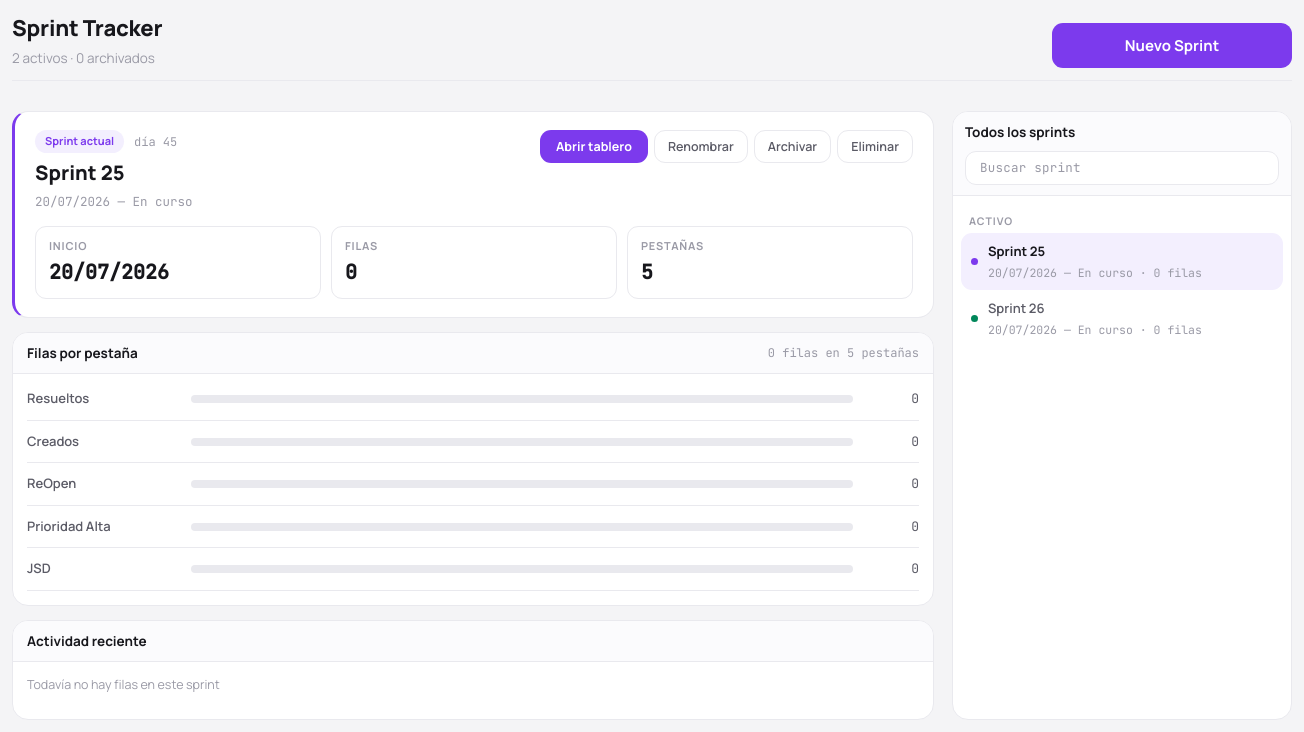
Test: SprintList redesigned layout › search filters the side list and shows noMatches when nothing matches
In the field with placeholder "Buscar sprint": {"x": 1122, "y": 168} x1=965 y1=150 x2=1279 y2=184, type "26"
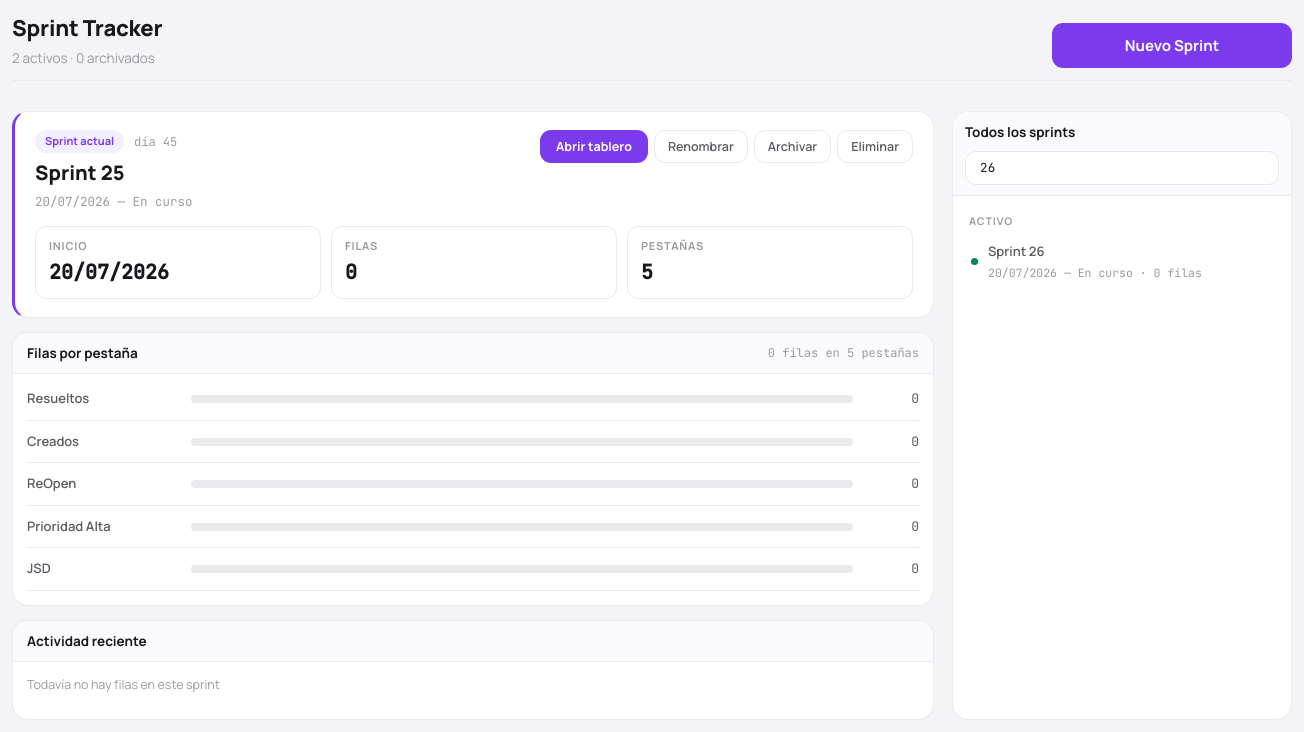
Expected: the text "Sprint 25" is shown once, x1=35 y1=159 x2=124 y2=186
Replace the text in the field with placeholder "Buscar sprint" with "zzz": {"x": 1122, "y": 168} x1=965 y1=150 x2=1279 y2=184
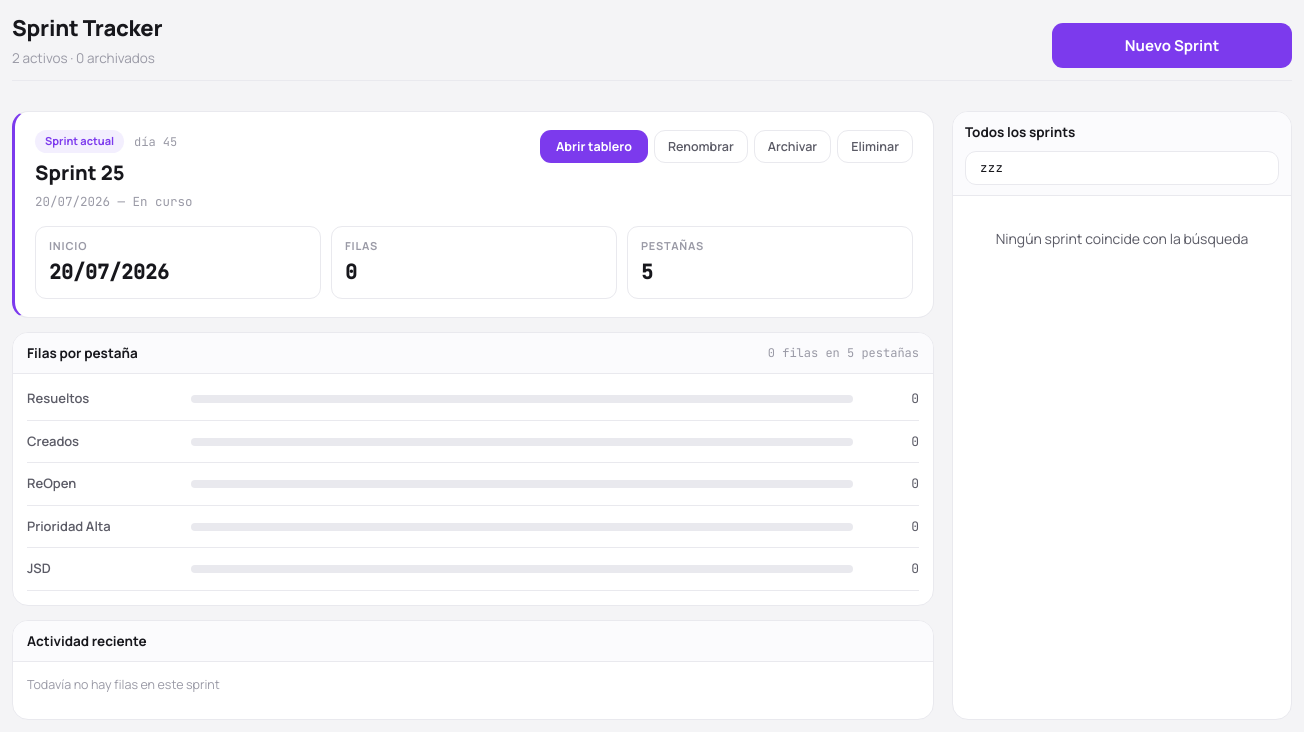
Now the text "Ningún sprint coincide con la búsqueda" is shown, box x1=996 y1=228 x2=1248 y2=248
